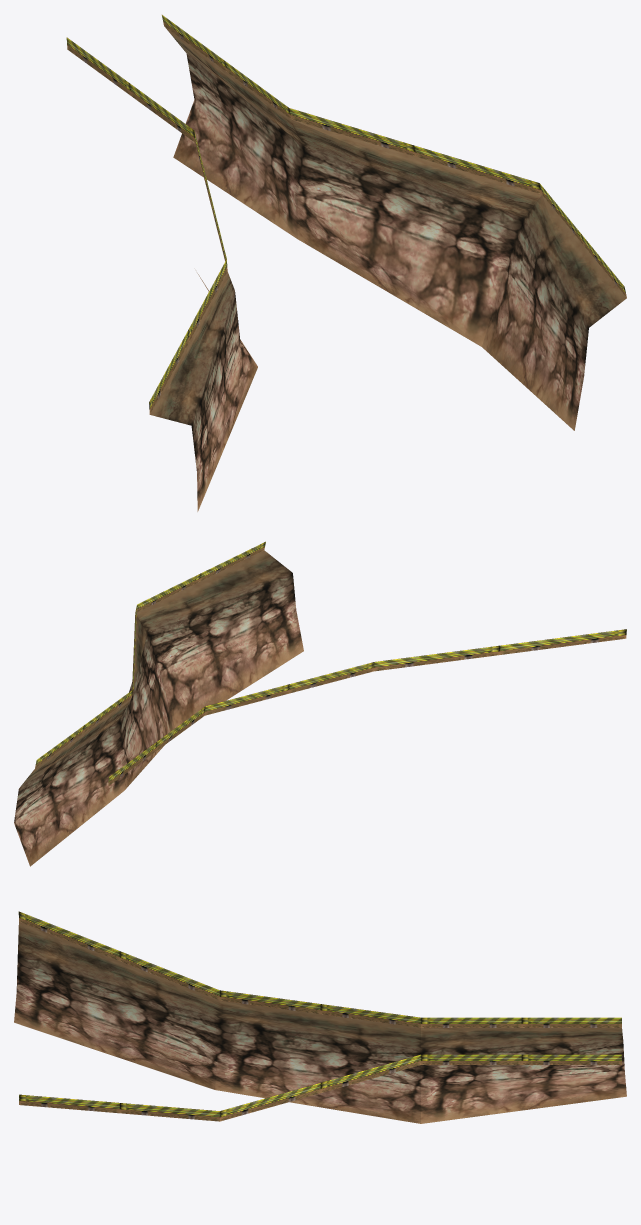
Rendered from ravine01.glb.
The picture shows the model from 3 angles, top to bottom: view 1: azimuth 30°, elevation 25°; view 2: azimuth 150°, elevation 25°; view 3: azimuth 270°, elevation 25°; orthographic projection. The views are drawn at different scales.
Parts seen in each view (by area): view 1: ravine01; view 2: ravine01; view 3: ravine01.
Part boxes in pixels (x1,y1,x2,y2): ravine01: (66, 15, 626, 511); ravine01: (14, 541, 626, 866); ravine01: (14, 911, 626, 1123).
Size of the model in its own units: 5038 by 1530 by 6520.
3 materials, 3 textured.
